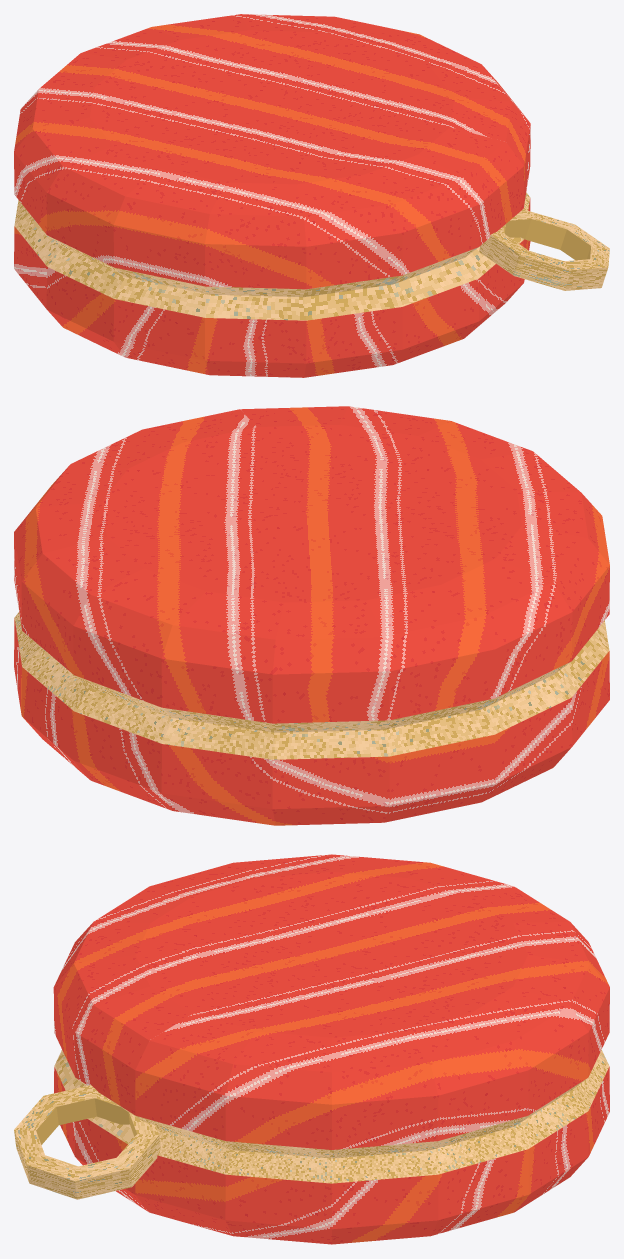
The model's file is yoyo.glb.
3 renders of one model, top to bottom at view 1: azimuth 30°, elevation 25°; view 2: azimuth 150°, elevation 25°; view 3: azimuth 270°, elevation 25°, orthographic. The views are drawn at different scales.
Parts seen in each view (by area): view 1: Cylinder, Cylinder.001; view 2: Cylinder; view 3: Cylinder, Cylinder.001.
Boxes of the visible parts, box(x1,y1,x2,y2) form: Cylinder: box(14, 14, 530, 377); Cylinder.001: box(479, 209, 609, 290); Cylinder: box(14, 406, 609, 825); Cylinder: box(53, 854, 609, 1244); Cylinder.001: box(14, 1085, 160, 1199).
Bounding box in the file's own units: 0.7822 × 0.2937 × 0.8382.
2 materials, 2 textured.
